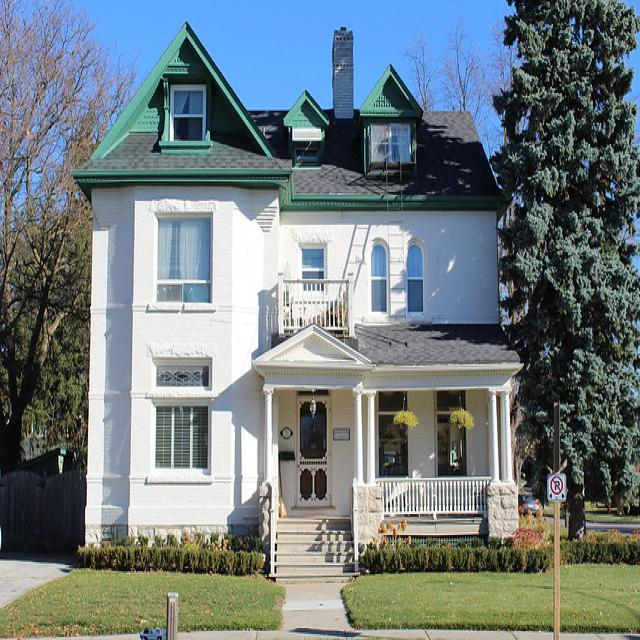building: (70, 14, 526, 582), (250, 321, 526, 578)
